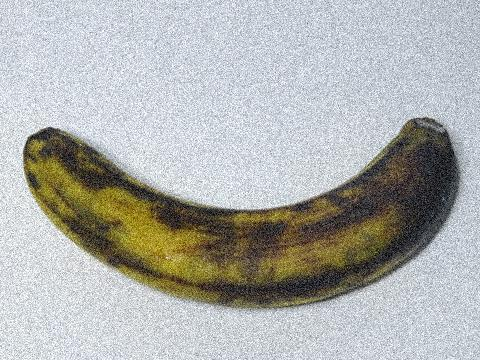overripe: (23, 93, 456, 315)
rotten: (367, 109, 463, 257)
